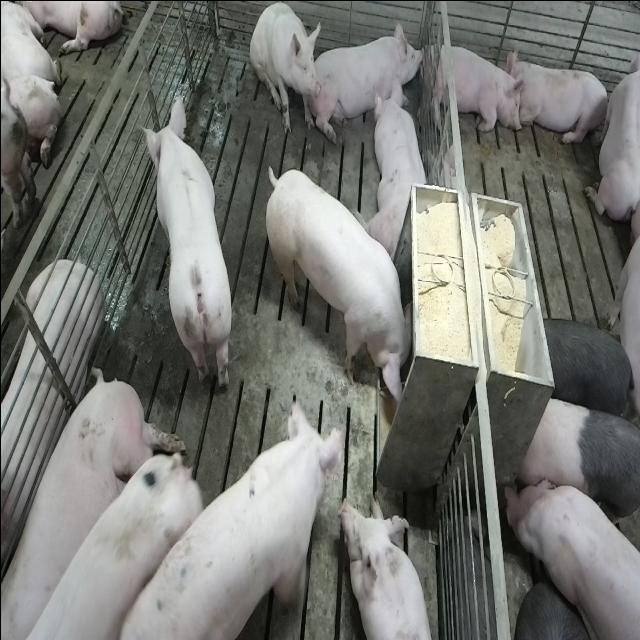Feeding: (270, 165, 420, 412)
Lateral_lying: (0, 258, 103, 581)
Sitting: (248, 2, 320, 136)
Standing: (100, 387, 357, 640), (3, 432, 205, 640), (140, 97, 234, 397), (502, 472, 638, 640), (514, 394, 638, 536), (535, 311, 637, 423)
Sternal_lying: (314, 12, 425, 138), (344, 494, 436, 640), (368, 78, 430, 258), (424, 36, 524, 138), (584, 38, 638, 225), (509, 52, 610, 150)
